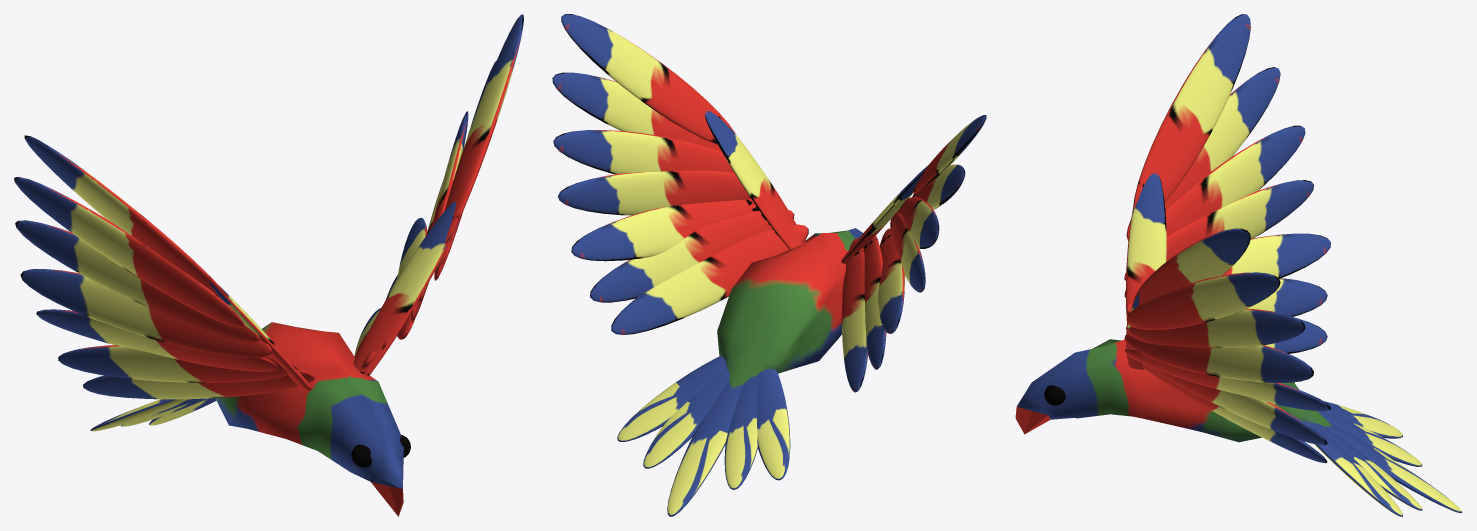
File: lorikeet.glb
The picture shows the model from 3 angles, left to right: view 1: azimuth 30°, elevation 25°; view 2: azimuth 150°, elevation 25°; view 3: azimuth 270°, elevation 25°; orthographic projection. The views are drawn at different scales.
Visible parts, largest first — view 1: Sphere.009, Cube, Sphere.002; view 2: Sphere.009, Sphere.002, Cube; view 3: Sphere.009, Cube, Sphere.002, Cube.001.
Part boxes in pixels (x1,y1,x2,y2): Sphere.009: (14, 14, 523, 399); Cube: (215, 322, 403, 488); Sphere.002: (90, 398, 216, 431); Sphere.009: (552, 14, 986, 392); Sphere.002: (617, 356, 790, 516); Cube: (717, 228, 862, 388); Sphere.009: (1124, 14, 1330, 463); Cube: (1017, 339, 1331, 442); Sphere.002: (1304, 401, 1462, 516); Cube.001: (1015, 406, 1050, 434).
Bounding box in the file's own units: 4.64 × 3.92 × 4.06.
Materials: 5 (3 with a texture image).
